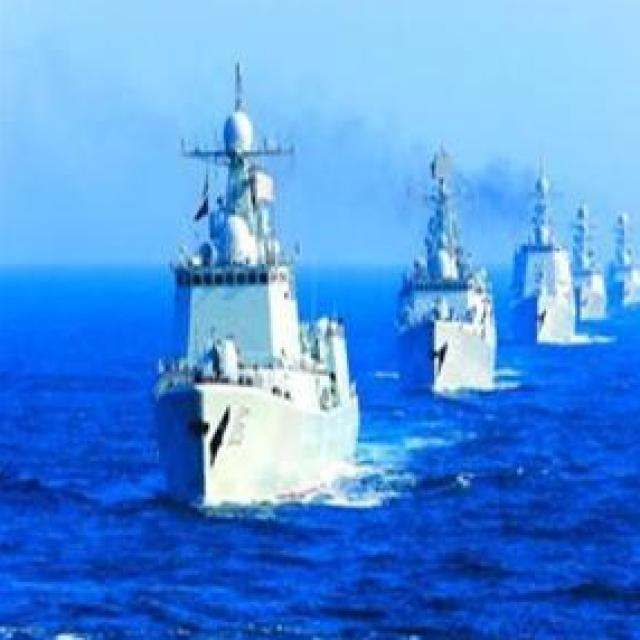navalvessels: (179, 76, 357, 560), (382, 149, 498, 395), (510, 164, 579, 356), (562, 198, 608, 329), (597, 199, 640, 307)
